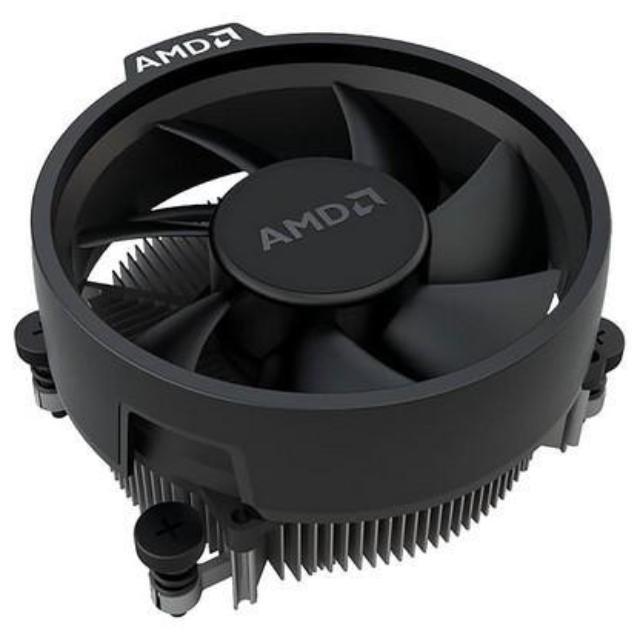CPU_Fan: (23, 22, 628, 610)
